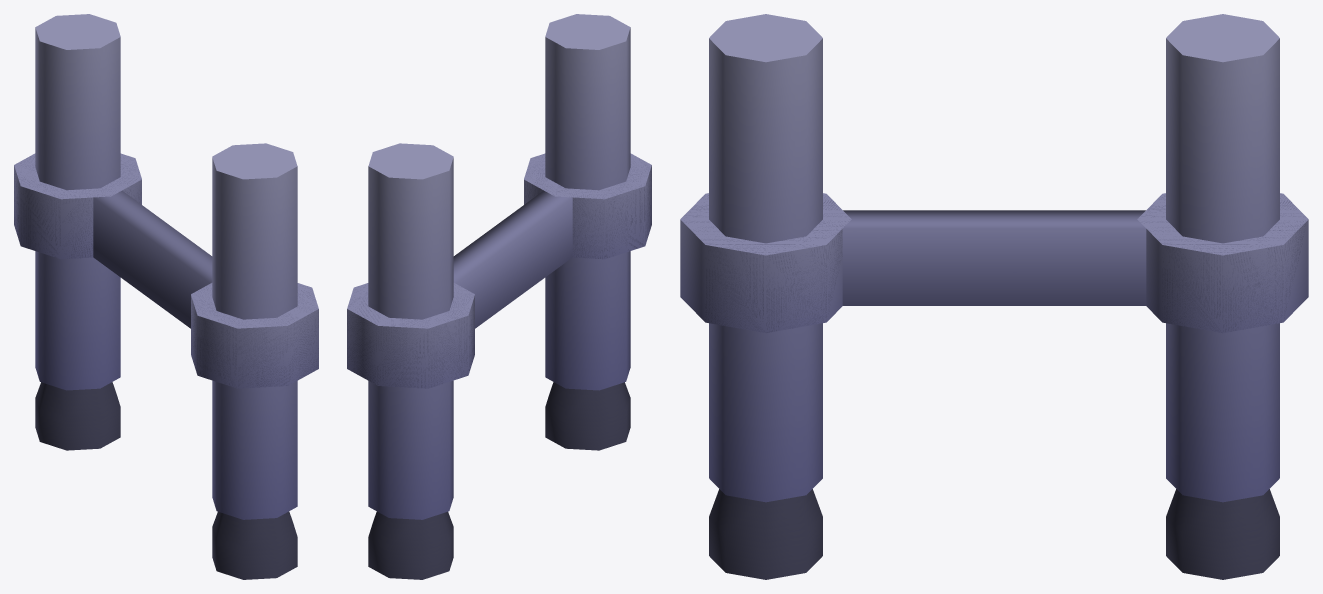
File: kenney-factory-structure-medium.glb
3 views of the same model, side by side, from view 1: azimuth 30°, elevation 25°; view 2: azimuth 150°, elevation 25°; view 3: azimuth 270°, elevation 25° (orthographic). The views are drawn at different scales.
Parts seen in each view (by area): view 1: structure-medium; view 2: structure-medium; view 3: structure-medium.
Boxes of the visible parts, <box> form: structure-medium: <box>14,14,318,579</box>; structure-medium: <box>347,14,651,579</box>; structure-medium: <box>680,14,1308,579</box>.
Bounding box in the file's own units: 0.45 × 1.5 × 1.65.
Materials: 1 (1 with a texture image).
